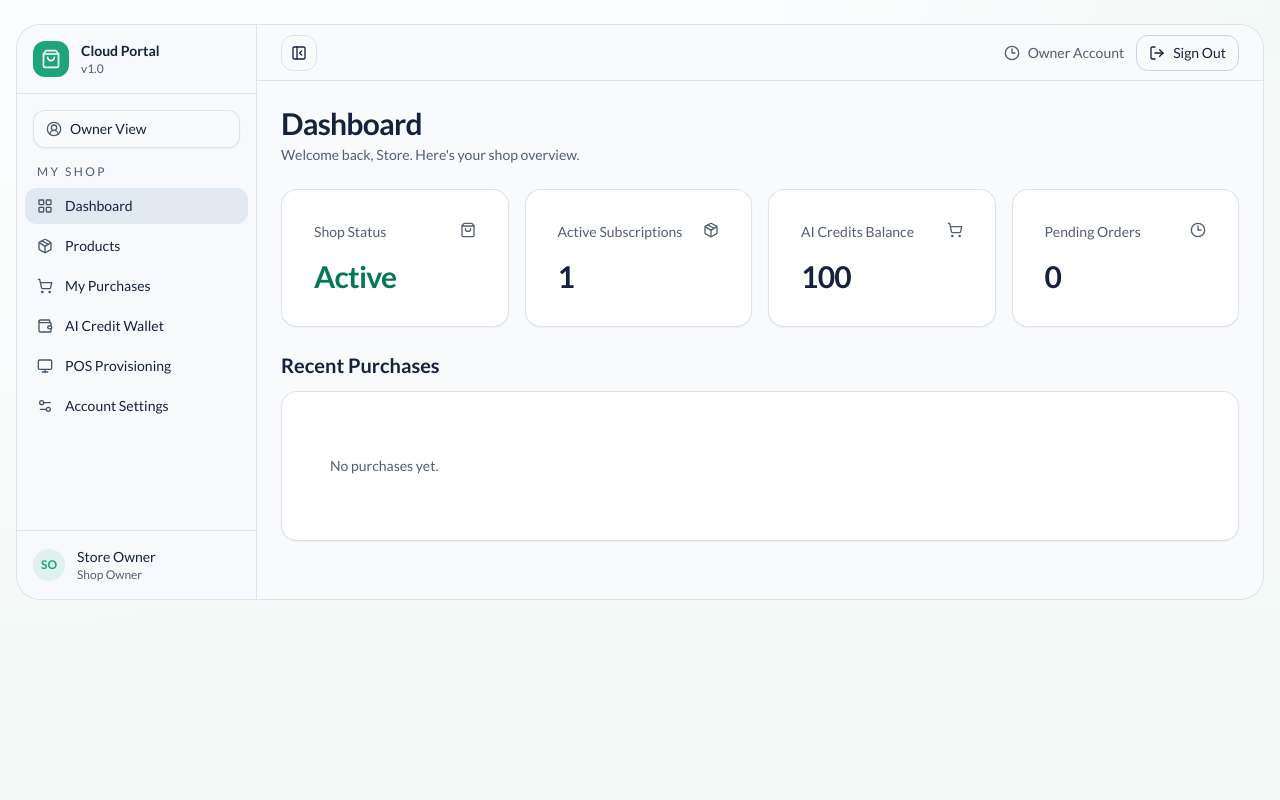
Scenario: Account page credentials-only commerce flow › shows succeeded AI payments when no purchase order record exists yet
What coordinates should you click on to do the following:
click the button "AI Credit Wallet"
I would click on:
 (136, 326)
Its box is left=25, top=308, right=248, bottom=344.
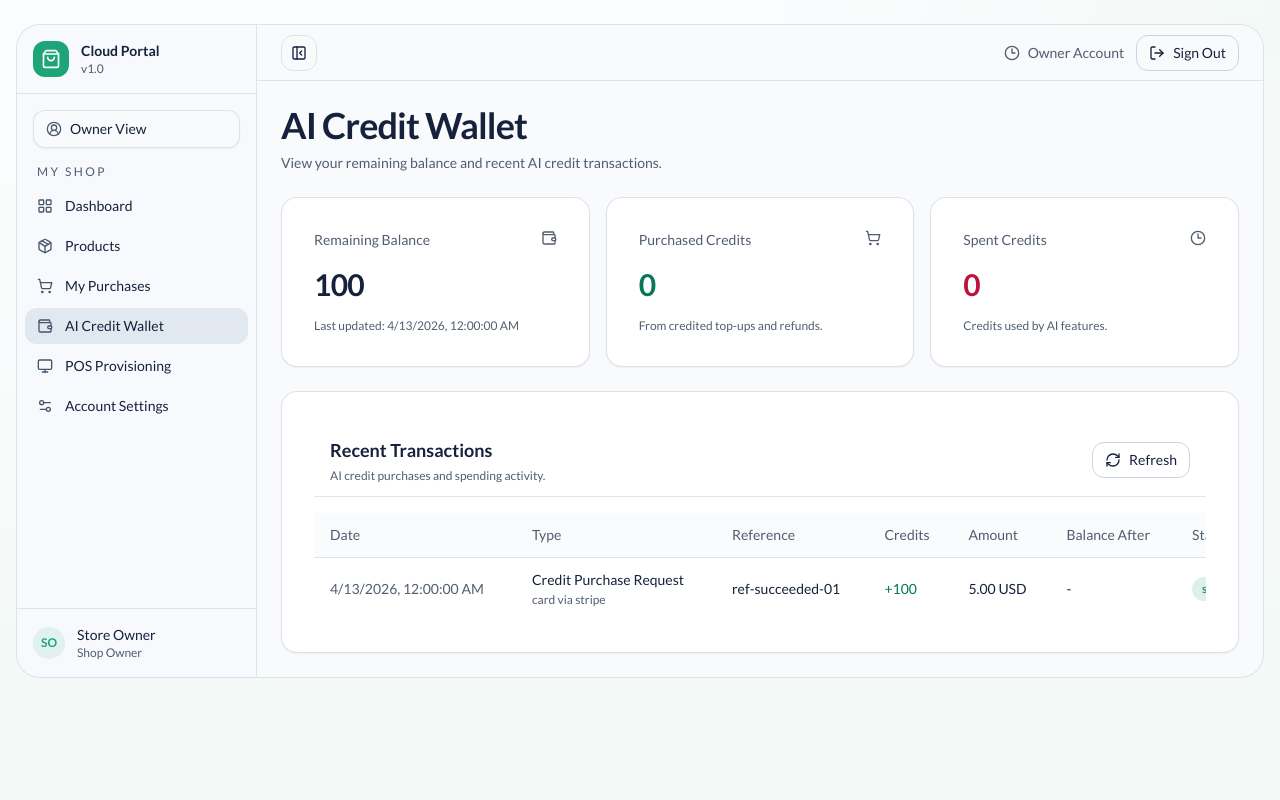
Expected: the text "Credit Purchase Request" is shown, left=532, top=570, right=700, bottom=590
Expected: the text "ref-succeeded-01" is shown, left=716, top=558, right=868, bottom=620
Expected: the text "succeeded" is shown, left=732, top=580, right=840, bottom=597
